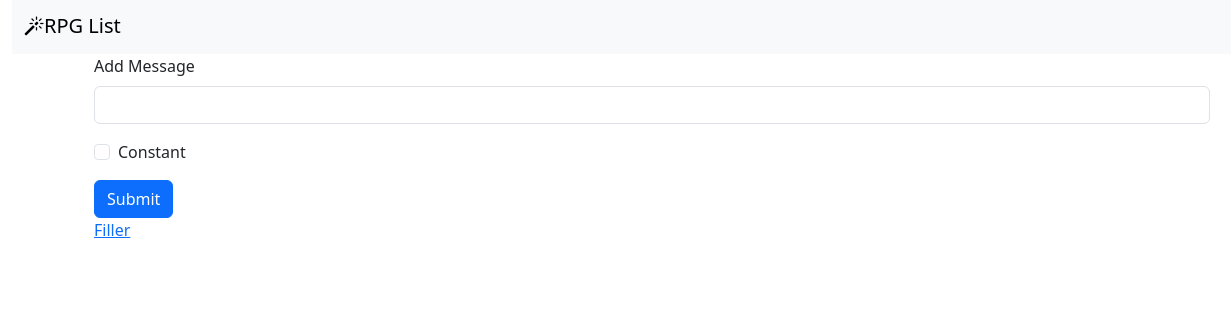
it: <MessageBlock /> › not-constant disappears
The image size is (1231, 332).
Step 1. Type "Some text" into the field → (652, 105), box left=94, top=86, right=1210, bottom=124
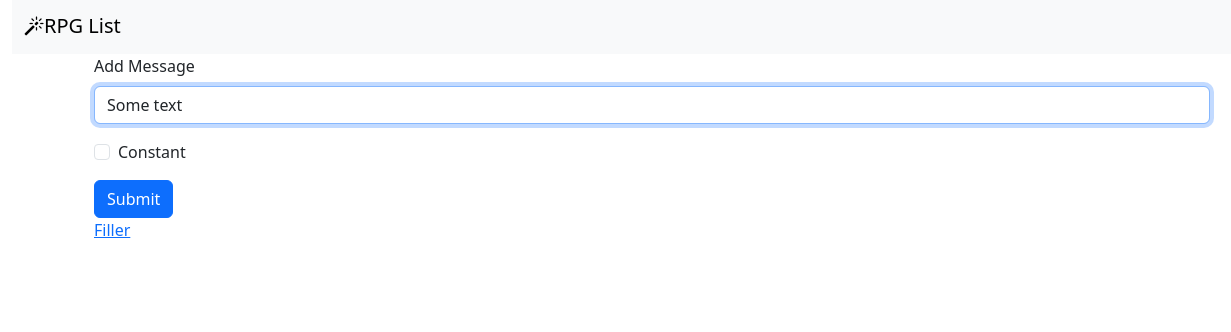
Step 2. Click the button "Submit" → (134, 199), box left=94, top=180, right=173, bottom=218
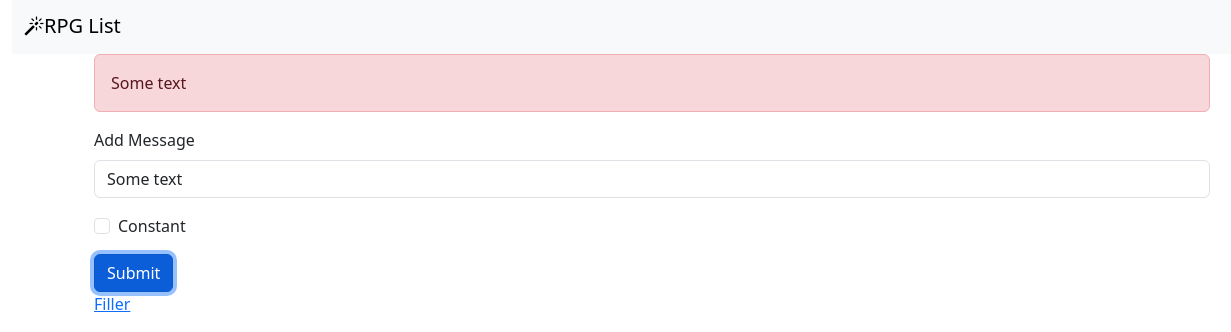
Step 3. Click the link "Filler" → (112, 304), box left=94, top=293, right=130, bottom=315
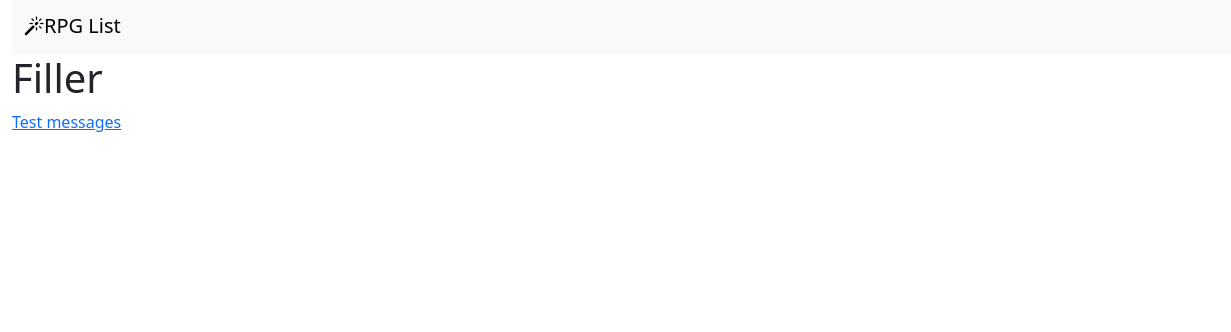
Expected: the element with class "d-flex" is gone
